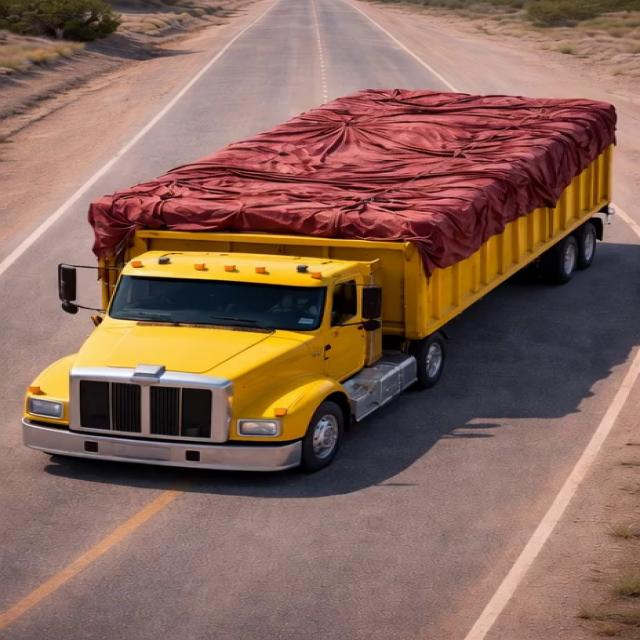Box: (93, 86, 616, 257)
Truck: (26, 57, 630, 474)
